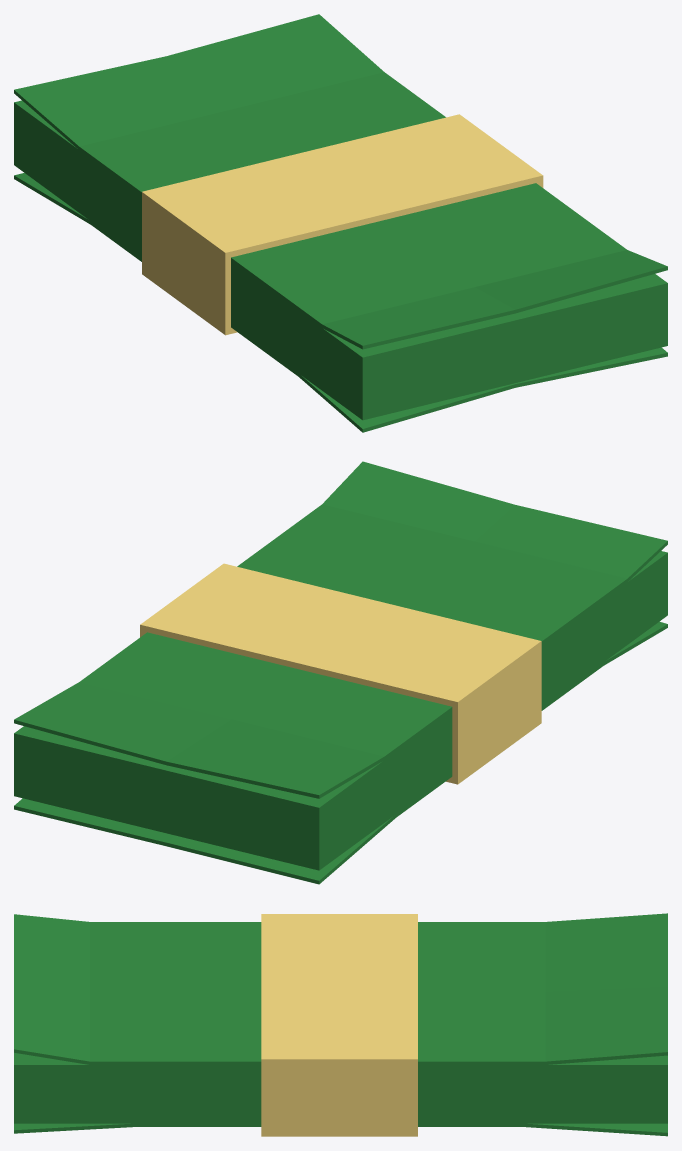
The model's file is Money.fbx.
The picture shows the model from 3 angles, top to bottom: view 1: azimuth 30°, elevation 25°; view 2: azimuth 150°, elevation 25°; view 3: azimuth 270°, elevation 25°; orthographic projection. The views are drawn at different scales.
Visible parts, largest first — view 1: MoneyMesh; view 2: MoneyMesh; view 3: MoneyMesh.
Part boxes in pixels (<box>): MoneyMesh: <box>14,14,667,432</box>; MoneyMesh: <box>14,461,667,884</box>; MoneyMesh: <box>14,913,667,1136</box>.
Size of the model in its own units: 15.01 by 4.22 by 28.54.
Materials: 1 (1 with a texture image).
